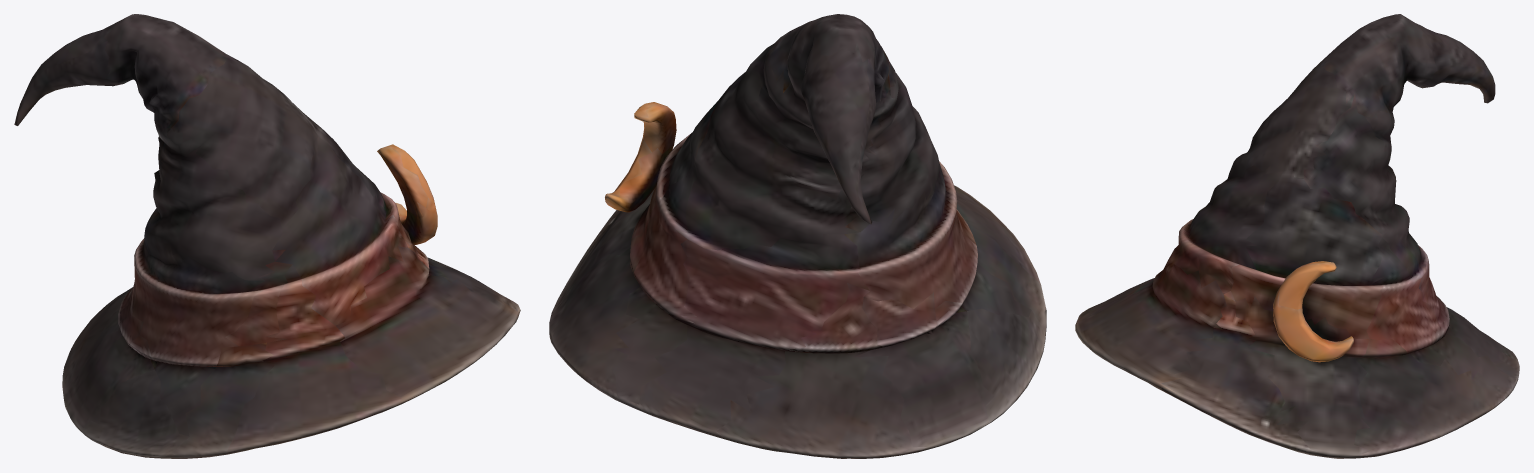
The model's file is hat_cone.glb.
3 renders of one model, left to right at view 1: azimuth 30°, elevation 25°; view 2: azimuth 150°, elevation 25°; view 3: azimuth 270°, elevation 25°, orthographic. The views are drawn at different scales.
Visible parts, largest first — view 1: tripo_node_bfbf5ecd-8d0f-4a07-ba1f-16a9a428c906; view 2: tripo_node_bfbf5ecd-8d0f-4a07-ba1f-16a9a428c906; view 3: tripo_node_bfbf5ecd-8d0f-4a07-ba1f-16a9a428c906.
Boxes of the visible parts, box(x1,y1,x2,y2) form: tripo_node_bfbf5ecd-8d0f-4a07-ba1f-16a9a428c906: box(14, 14, 520, 458); tripo_node_bfbf5ecd-8d0f-4a07-ba1f-16a9a428c906: box(549, 14, 1046, 458); tripo_node_bfbf5ecd-8d0f-4a07-ba1f-16a9a428c906: box(1075, 14, 1519, 458).
Size of the model in its own units: 0.3802 by 0.35 by 0.405.
1 material, 1 textured.
